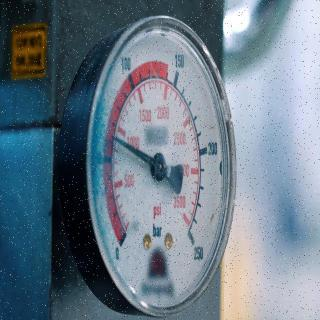gauge: (82, 10, 242, 320), (112, 219, 136, 255), (178, 214, 200, 248), (150, 149, 168, 183), (109, 133, 123, 147)
